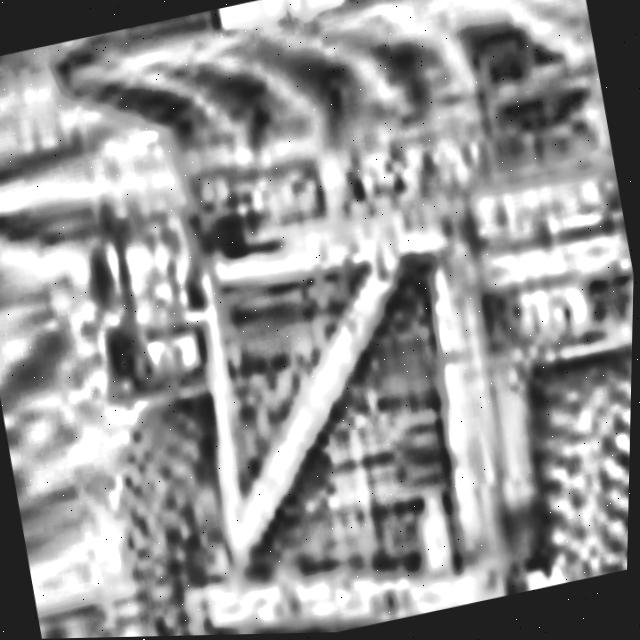dump_truck: (28, 0, 640, 639)
